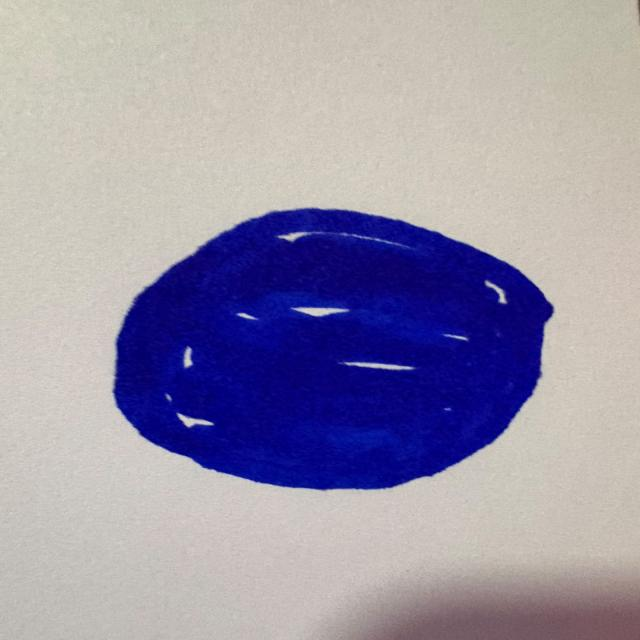Circle: (110, 205, 557, 496)
